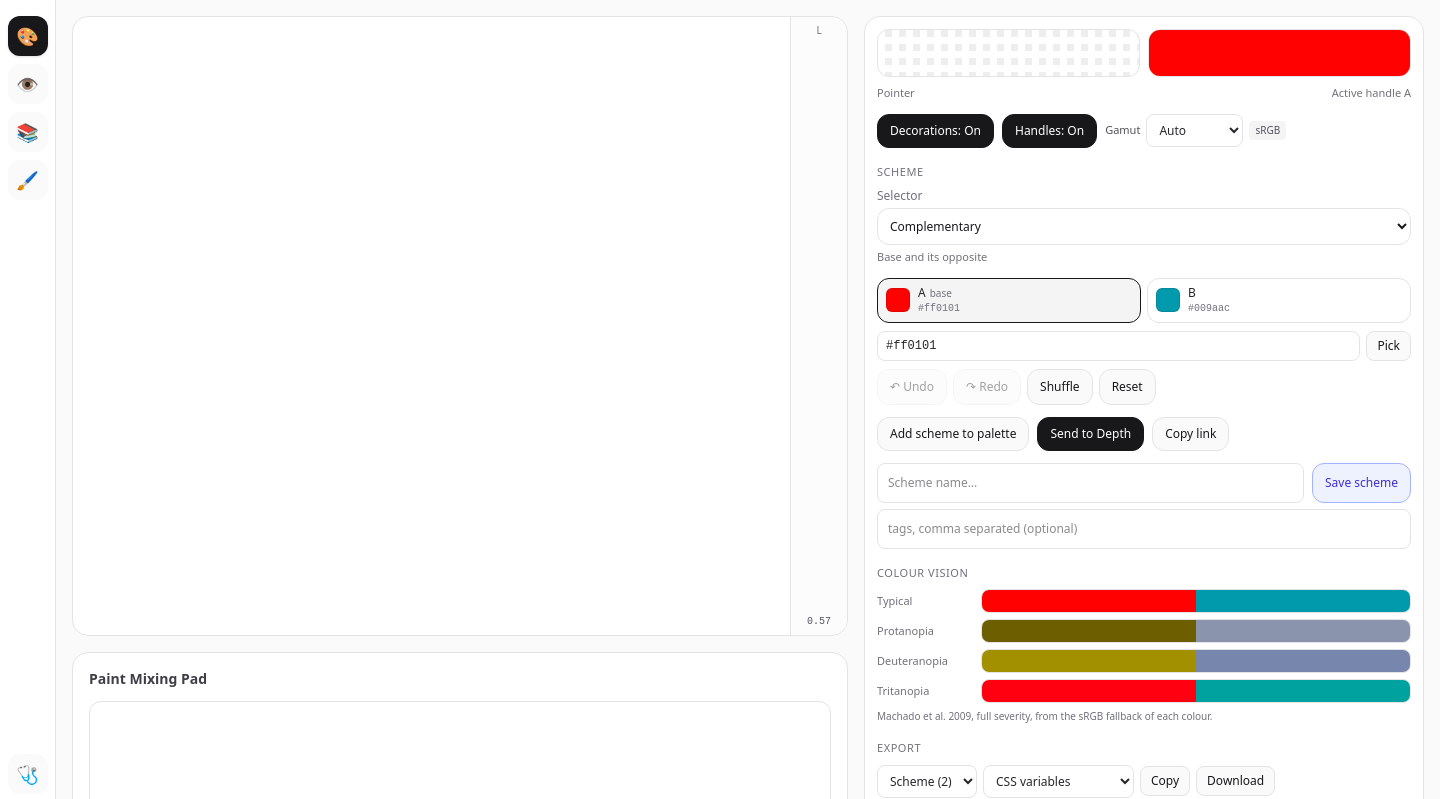
artist wheel selectors › shuffle re-rolls hues, locked role handles stay, reset restores the default
Select "Roles" in the dropdown labelled "Selector": x=1144, y=226 x1=877 y1=208 x2=1411 y2=245
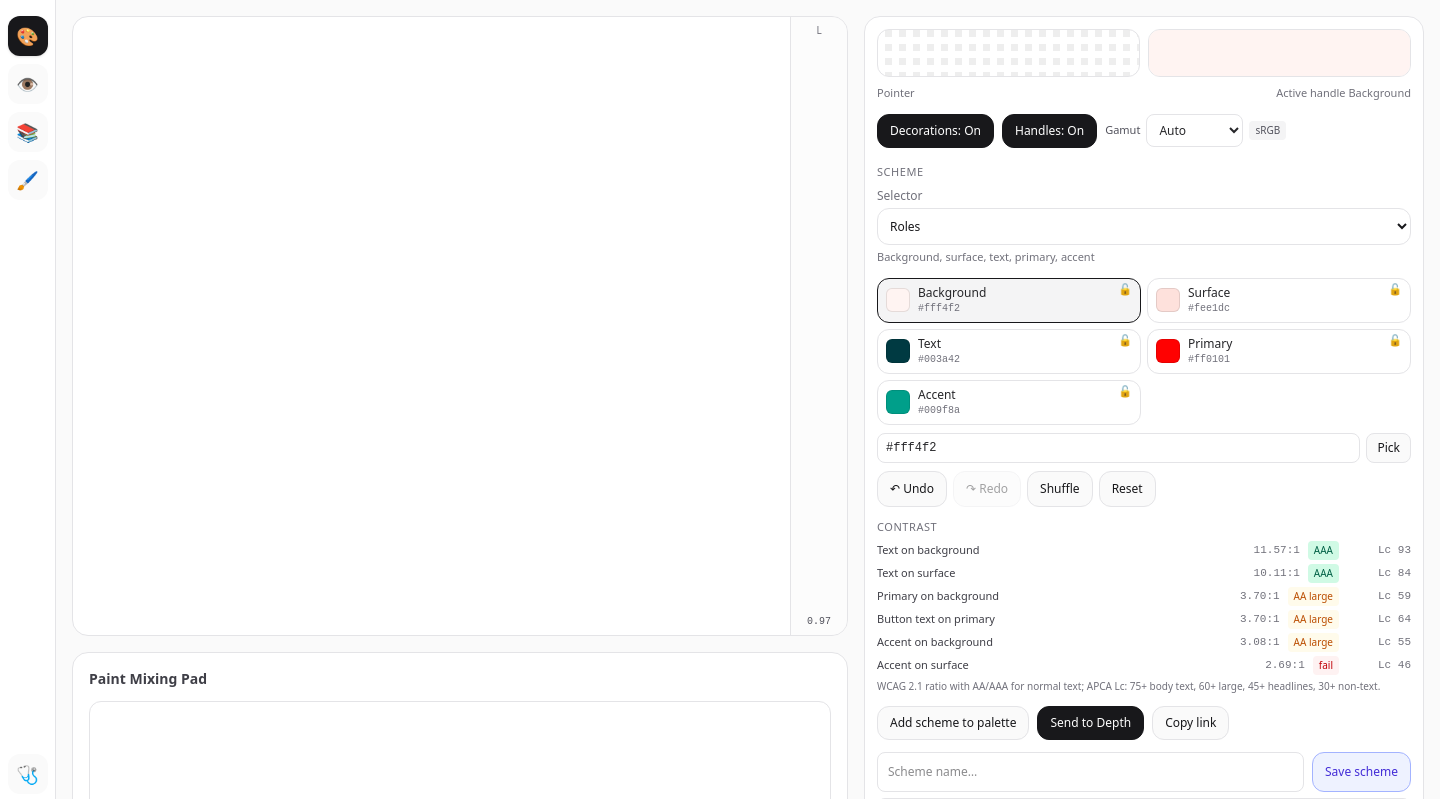
Click the checkbox named "lock text": x=1125, y=339 x1=1118 y1=332 x2=1132 y2=346
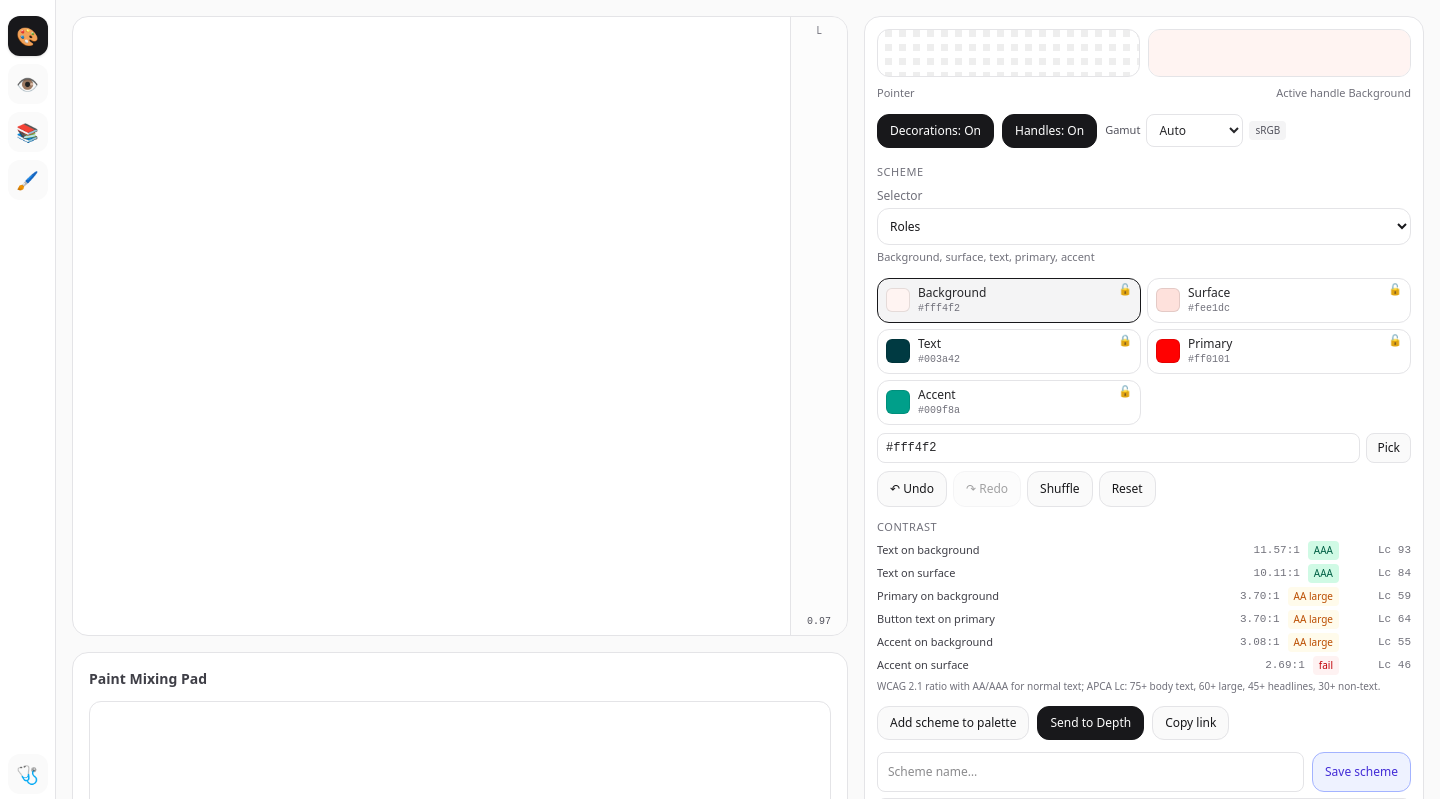
Check: the checkbox named "lock text" is checked, box x1=1118 y1=332 x2=1132 y2=346
Click the button "Shuffle": x=1060, y=488 x1=1027 y1=470 x2=1093 y2=506
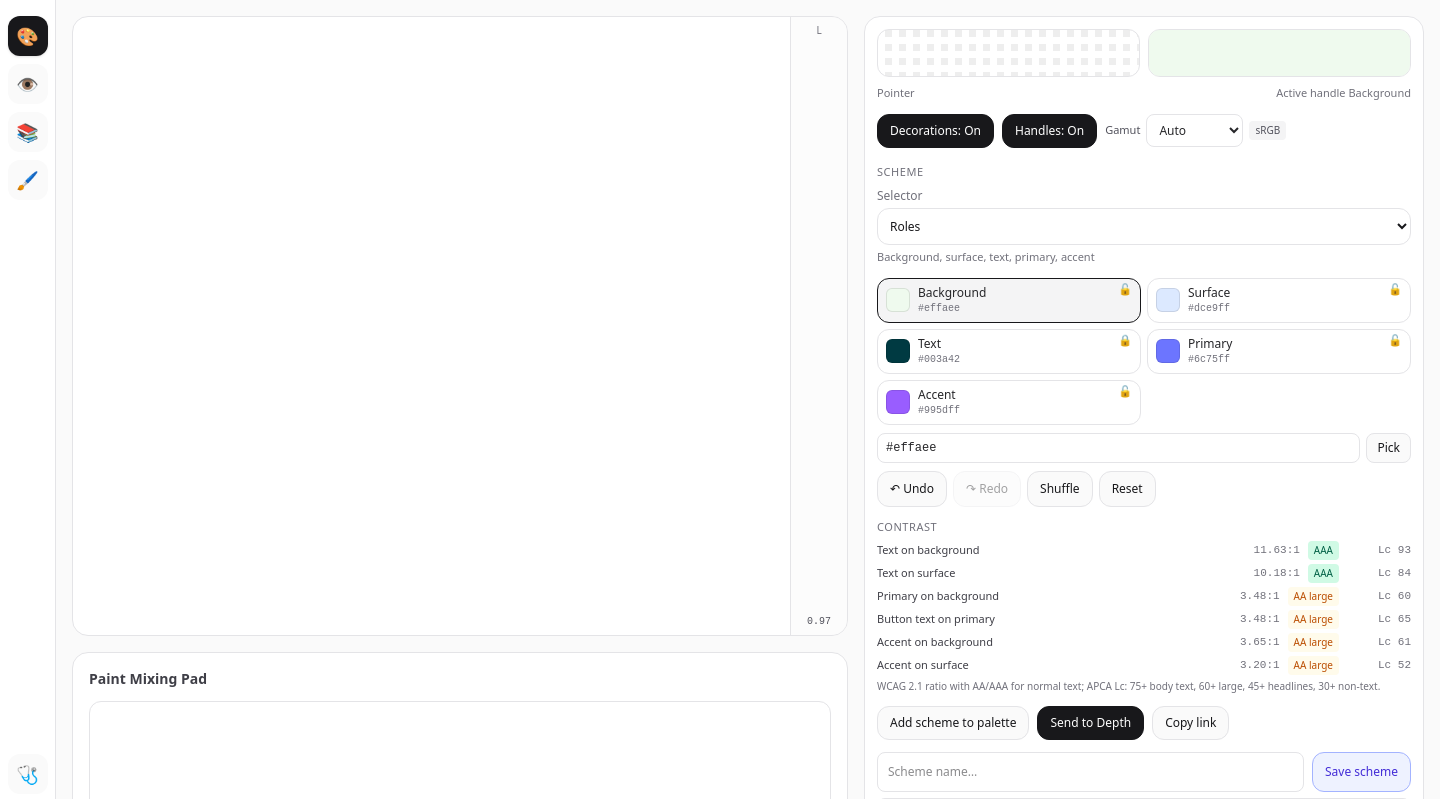
Click the button "Reset": x=1127, y=488 x1=1099 y1=470 x2=1156 y2=506
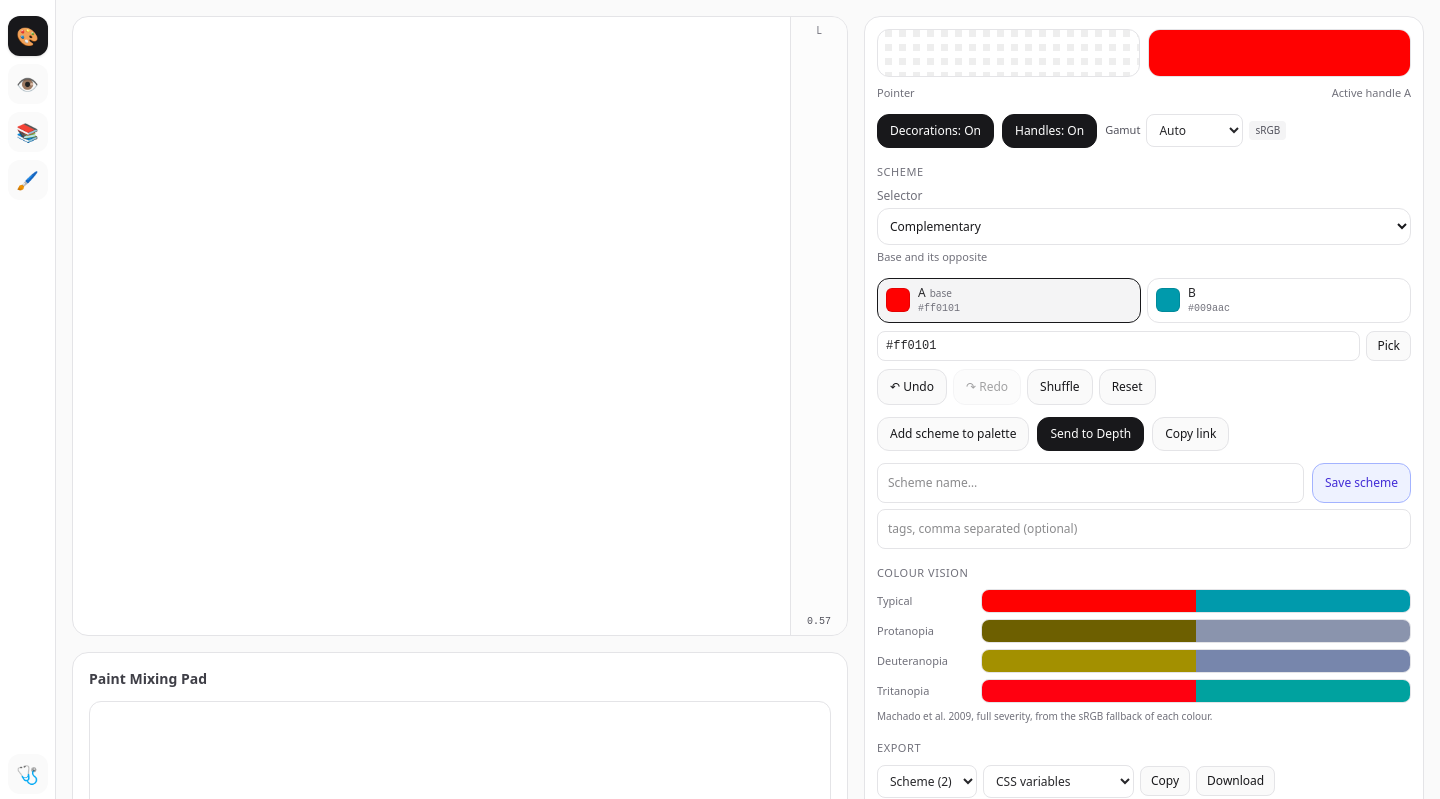
Check: the 1st option shows "#ff0101", box x1=877 y1=278 x2=1141 y2=322
